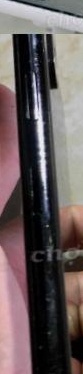scratch: (22, 34, 45, 83), (30, 210, 57, 242), (36, 358, 69, 374), (40, 321, 56, 343)
